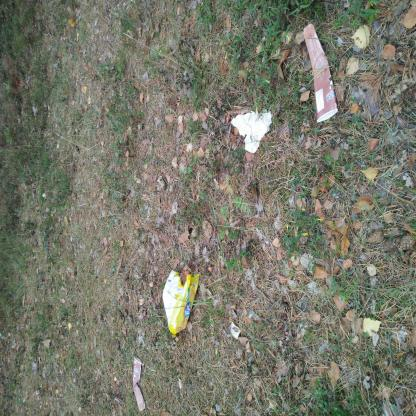trash: (59, 212, 124, 268), (193, 304, 238, 364), (0, 168, 48, 206), (215, 401, 296, 416)
